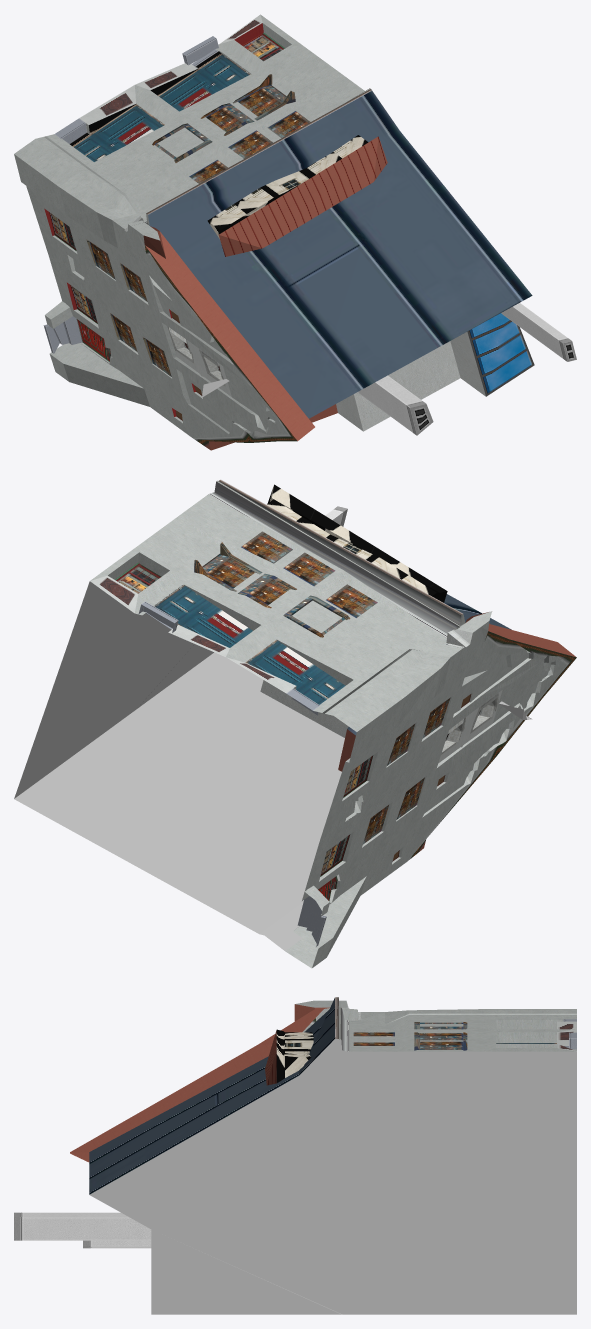
File: Pikk_10-origo.obj
3 views of the same model, one above another, from view 1: azimuth 30°, elevation 25°; view 2: azimuth 150°, elevation 25°; view 3: azimuth 270°, elevation 25° (orthographic). The views are drawn at different scales.
Parts seen in each view (by area): view 1: Pikk_10; view 2: Pikk_10; view 3: Pikk_10.
Boxes of the visible parts, x1=… form: Pikk_10: x1=14, y1=14, x2=576, y2=450; Pikk_10: x1=14, y1=479, x2=576, y2=968; Pikk_10: x1=14, y1=997, x2=576, y2=1314.
Size of the model in its own units: 16.69 by 16 by 24.69.
